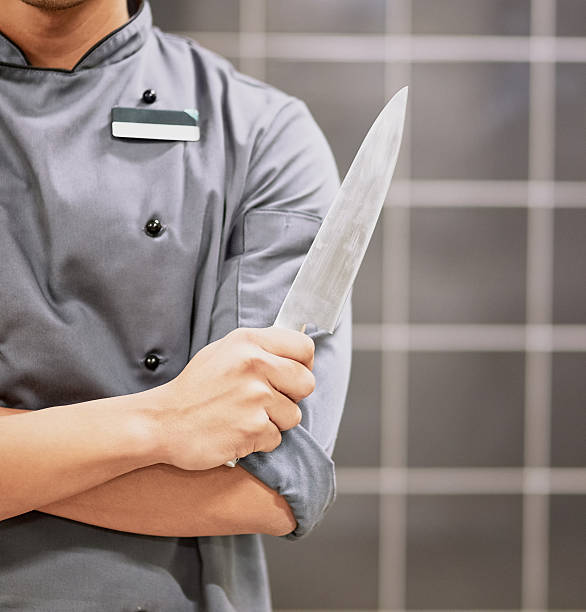knife: (223, 85, 412, 468)
